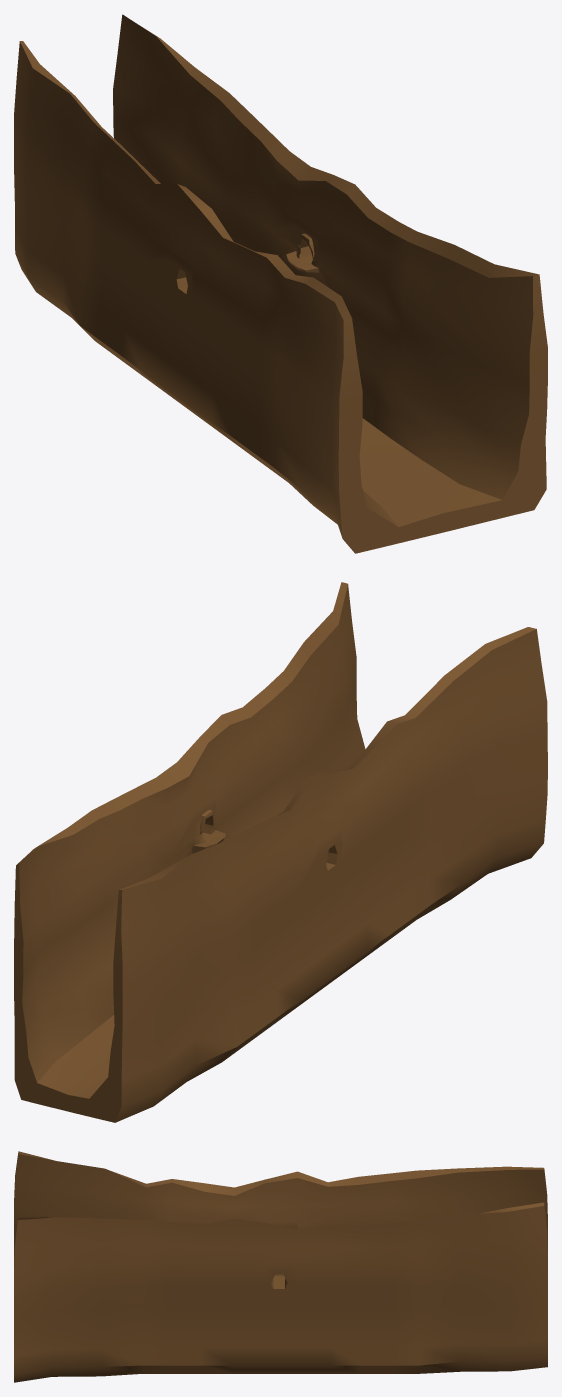
File: Canyon_02.fbx
The picture shows the model from 3 angles, top to bottom: view 1: azimuth 30°, elevation 25°; view 2: azimuth 150°, elevation 25°; view 3: azimuth 270°, elevation 25°; orthographic projection. The views are drawn at different scales.
Visible parts, largest first — view 1: pCube2; view 2: pCube2; view 3: pCube2.
Boxes of the visible parts, <box> form: pCube2: <box>14,14,547,553</box>; pCube2: <box>14,582,547,1122</box>; pCube2: <box>14,1151,547,1382</box>.
Size of the model in its own units: 55.51 by 59.49 by 172.
